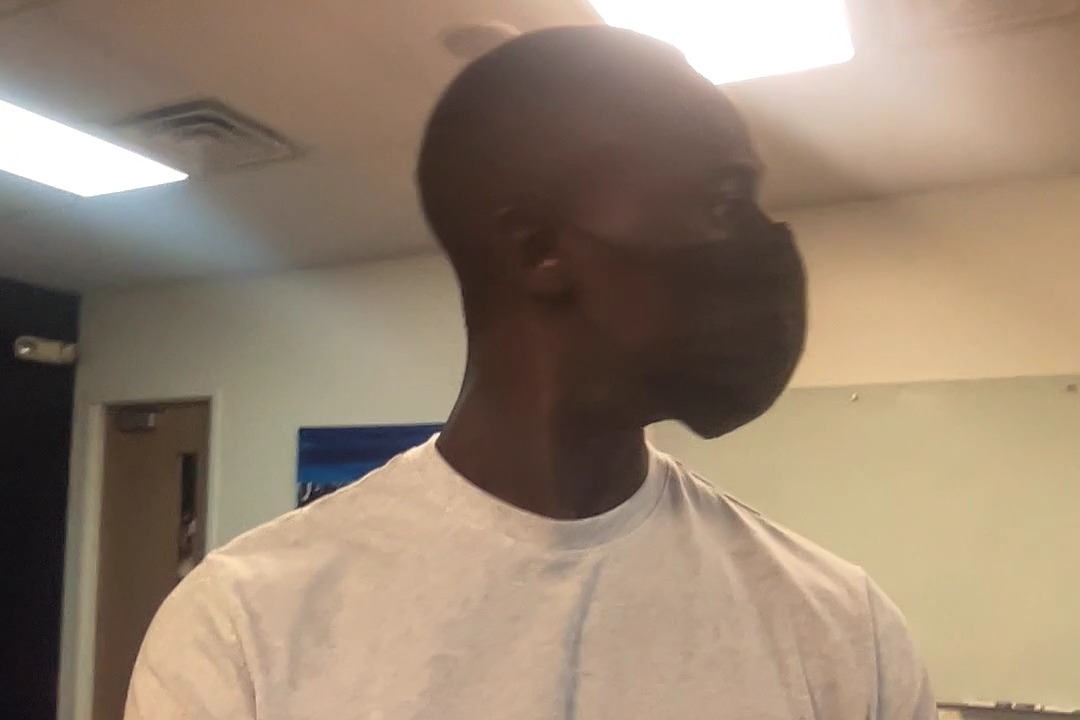face: (577, 58, 809, 439)
